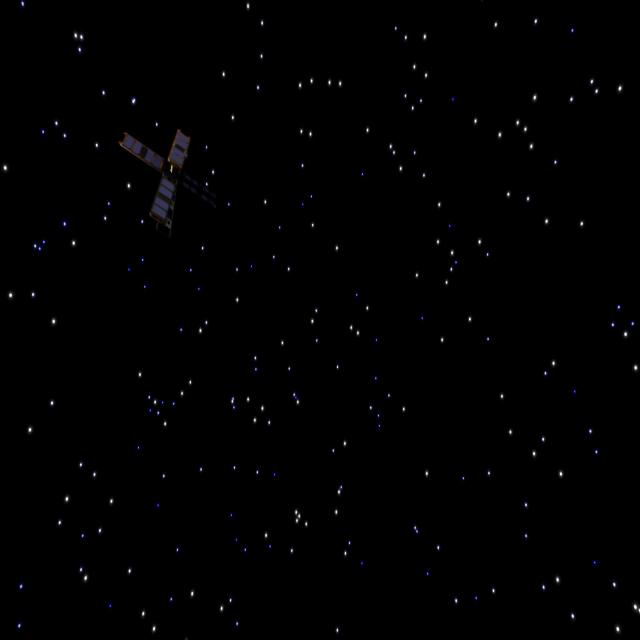satellite: (118, 124, 231, 243)
